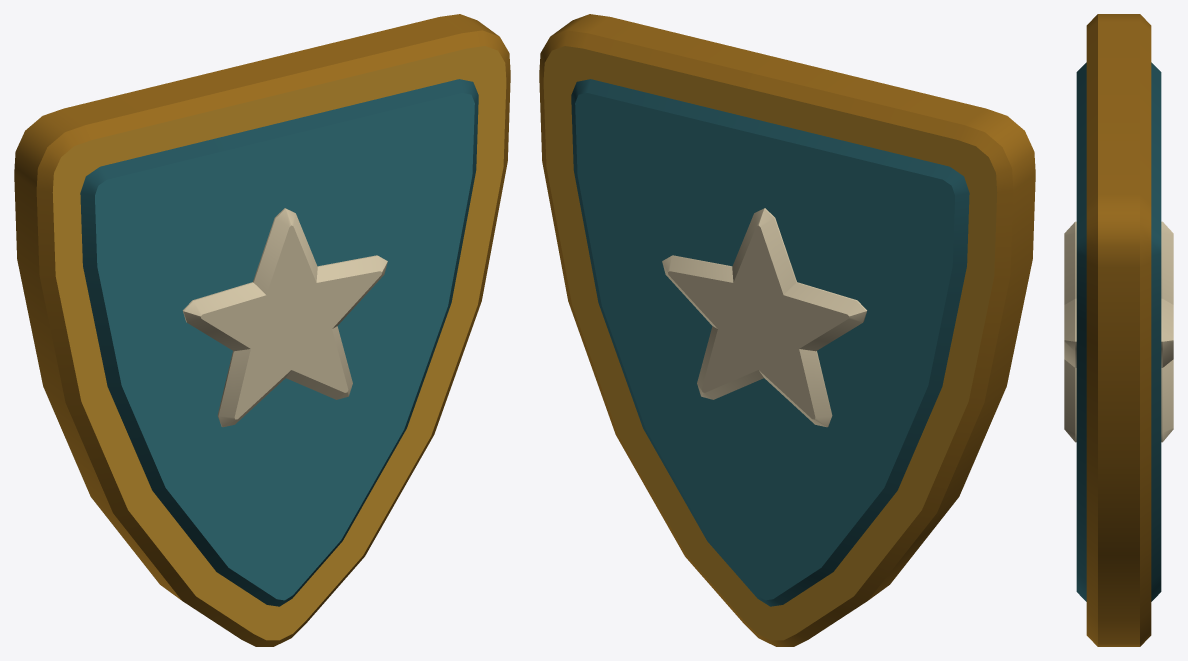
File: Badge_14.glb
The picture shows the model from 3 angles, left to right: view 1: azimuth 30°, elevation 25°; view 2: azimuth 150°, elevation 25°; view 3: azimuth 270°, elevation 25°; orthographic projection. The views are drawn at different scales.
Parts seen in each view (by area): view 1: Badge_14; view 2: Badge_14; view 3: Badge_14.
Boxes of the visible parts, x1=… form: Badge_14: x1=14, y1=14, x2=510, y2=646; Badge_14: x1=539, y1=14, x2=1035, y2=646; Badge_14: x1=1064, y1=14, x2=1173, y2=646.
Size of the model in its own units: 2.08 by 2.38 by 0.44.
